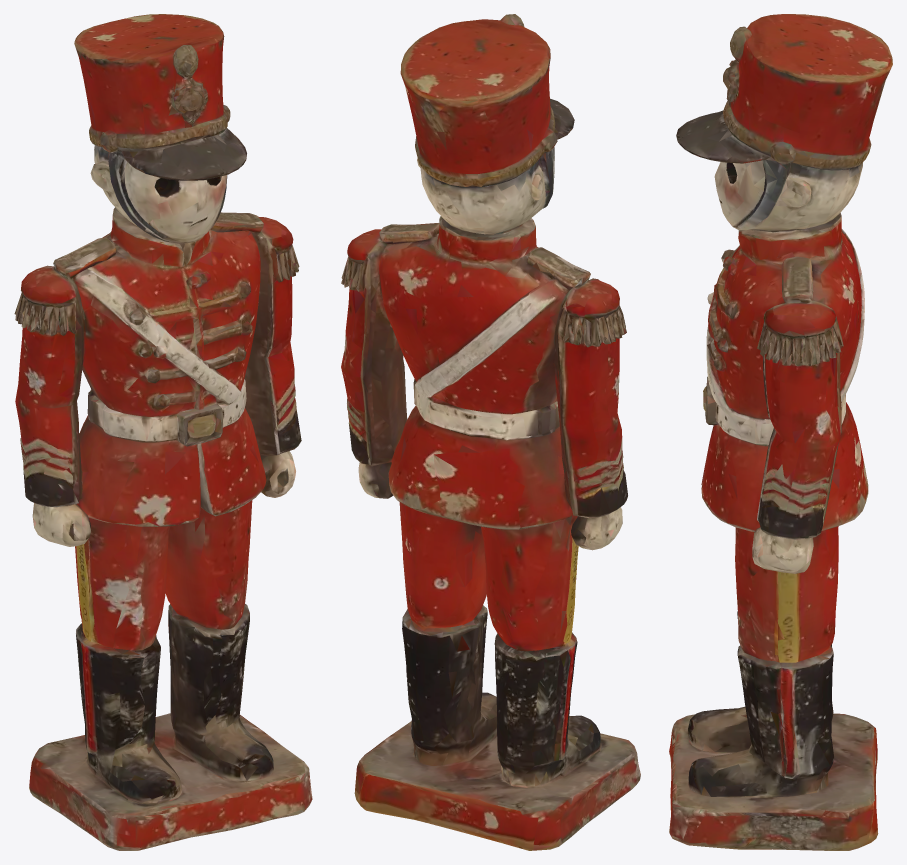
File: M08_ToySoldier.glb
3 views of the same model, side by side, from view 1: azimuth 30°, elevation 25°; view 2: azimuth 150°, elevation 25°; view 3: azimuth 270°, elevation 25° (orthographic).
Visible parts, largest first — view 1: geometry_0; view 2: geometry_0; view 3: geometry_0.
Part boxes in pixels (left/top/right/bottom): geometry_0: left=14, top=14, right=312, bottom=850; geometry_0: left=341, top=14, right=640, bottom=850; geometry_0: left=669, top=14, right=892, bottom=850.
Bounding box in the file's own units: 0.2973 × 0.8 × 0.2092.
Materials: 1 (1 with a texture image).
